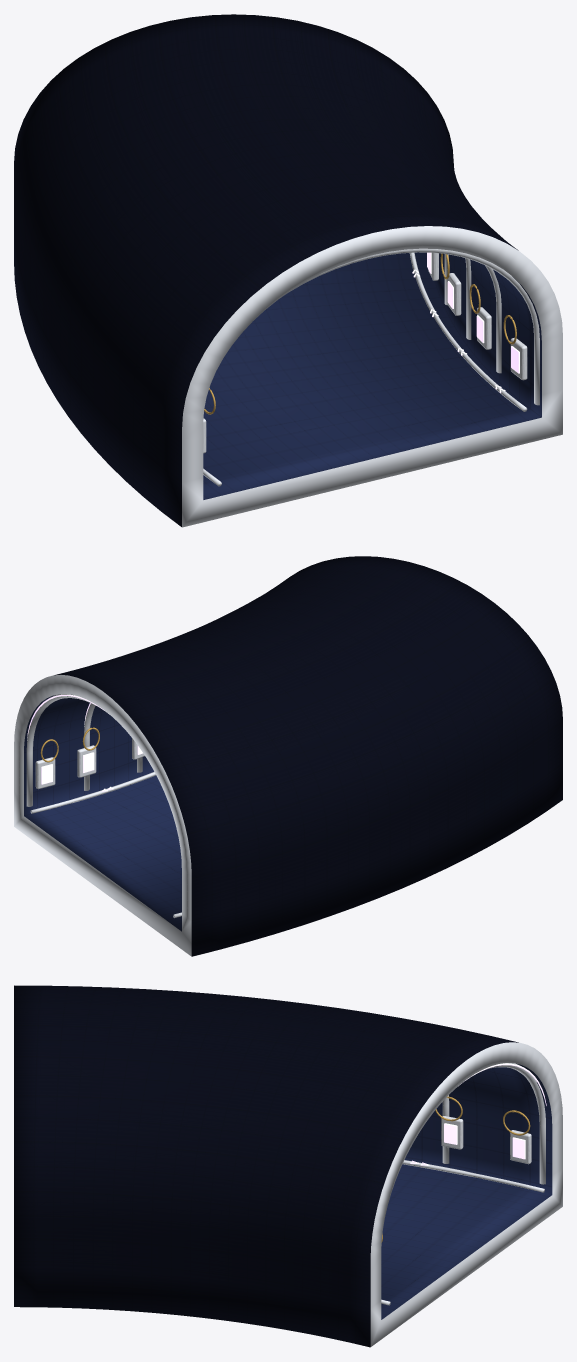
The model's file is curve_right_30.glb.
The picture shows the model from 3 angles, top to bottom: view 1: azimuth 30°, elevation 25°; view 2: azimuth 150°, elevation 25°; view 3: azimuth 270°, elevation 25°; orthographic projection. The views are drawn at different scales.
Visible parts, largest first — view 1: TunnelGeometry; view 2: TunnelGeometry; view 3: TunnelGeometry.
Part boxes in pixels (<box>): TunnelGeometry: <box>14,14,562,527</box>; TunnelGeometry: <box>14,556,562,956</box>; TunnelGeometry: <box>14,985,562,1347</box>.
Bounding box in the file's own units: 19.1 × 9.52 × 21.83.
5 materials, 2 textured.
